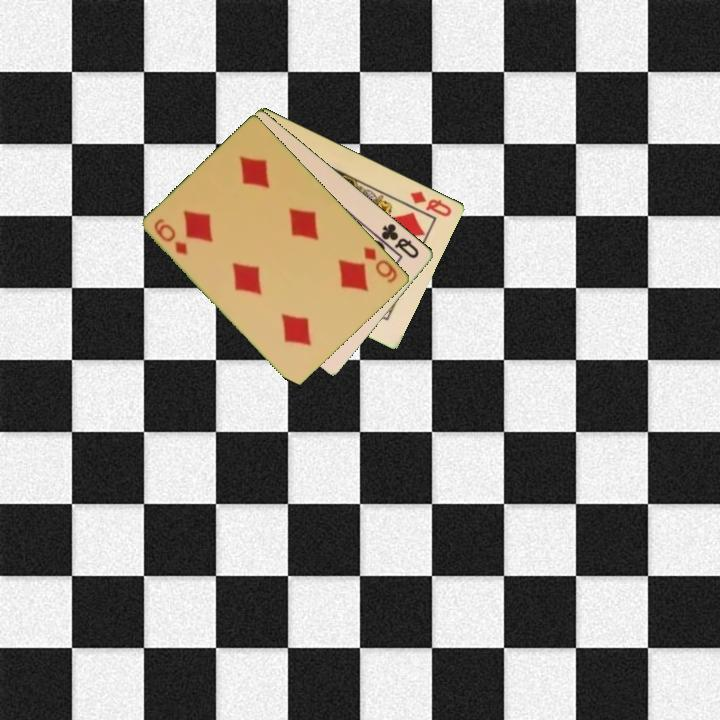6d: (360, 243, 401, 286), (150, 215, 191, 258)
Qc: (378, 220, 422, 262)
Qd: (407, 187, 455, 219)
